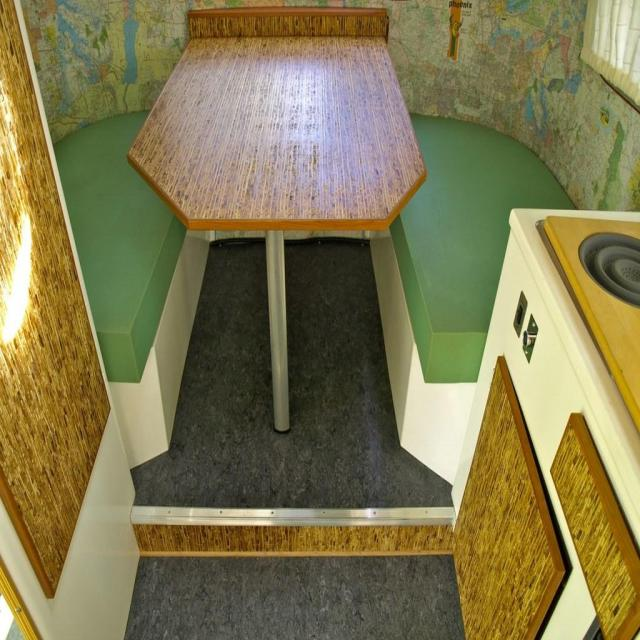Table: (116, 122, 461, 454)
